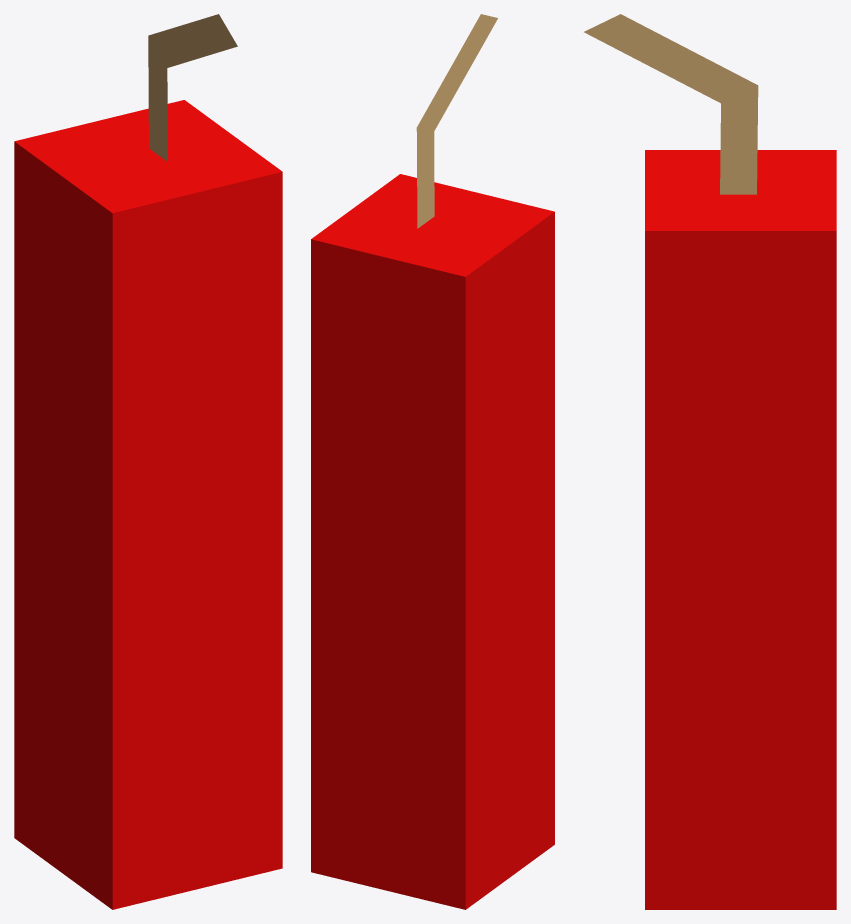
The model's file is tnt.fbx.
The picture shows the model from 3 angles, left to right: view 1: azimuth 30°, elevation 25°; view 2: azimuth 150°, elevation 25°; view 3: azimuth 270°, elevation 25°; orthographic projection. The views are drawn at different scales.
Parts seen in each view (by area): view 1: tnt; view 2: tnt; view 3: tnt.
Part boxes in pixels (x1,y1,x2,y2): tnt: (14, 14, 282, 909); tnt: (311, 14, 554, 909); tnt: (584, 14, 836, 909).
Bounding box in the file's own units: 0.2073 × 1.03 × 0.2739.
